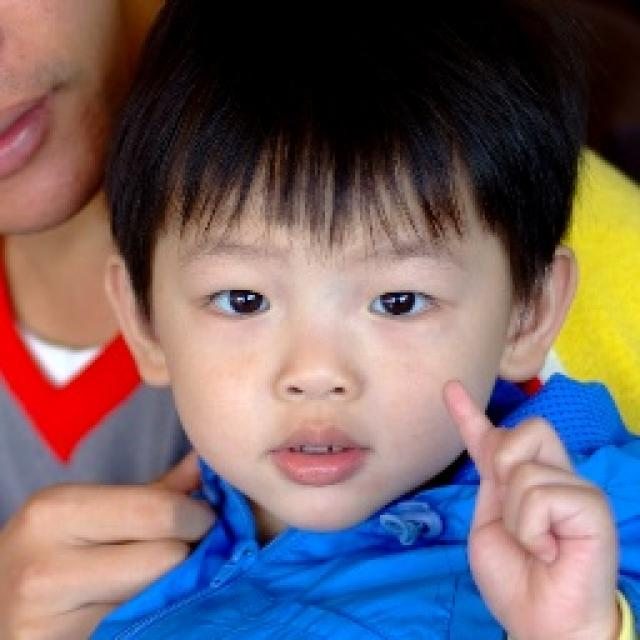earlobe: (497, 338, 538, 384), (136, 340, 173, 389)
eye: (200, 288, 272, 319), (368, 291, 442, 320)
nose: (271, 377, 361, 425)
wholeear: (498, 245, 580, 384), (104, 256, 172, 389)
